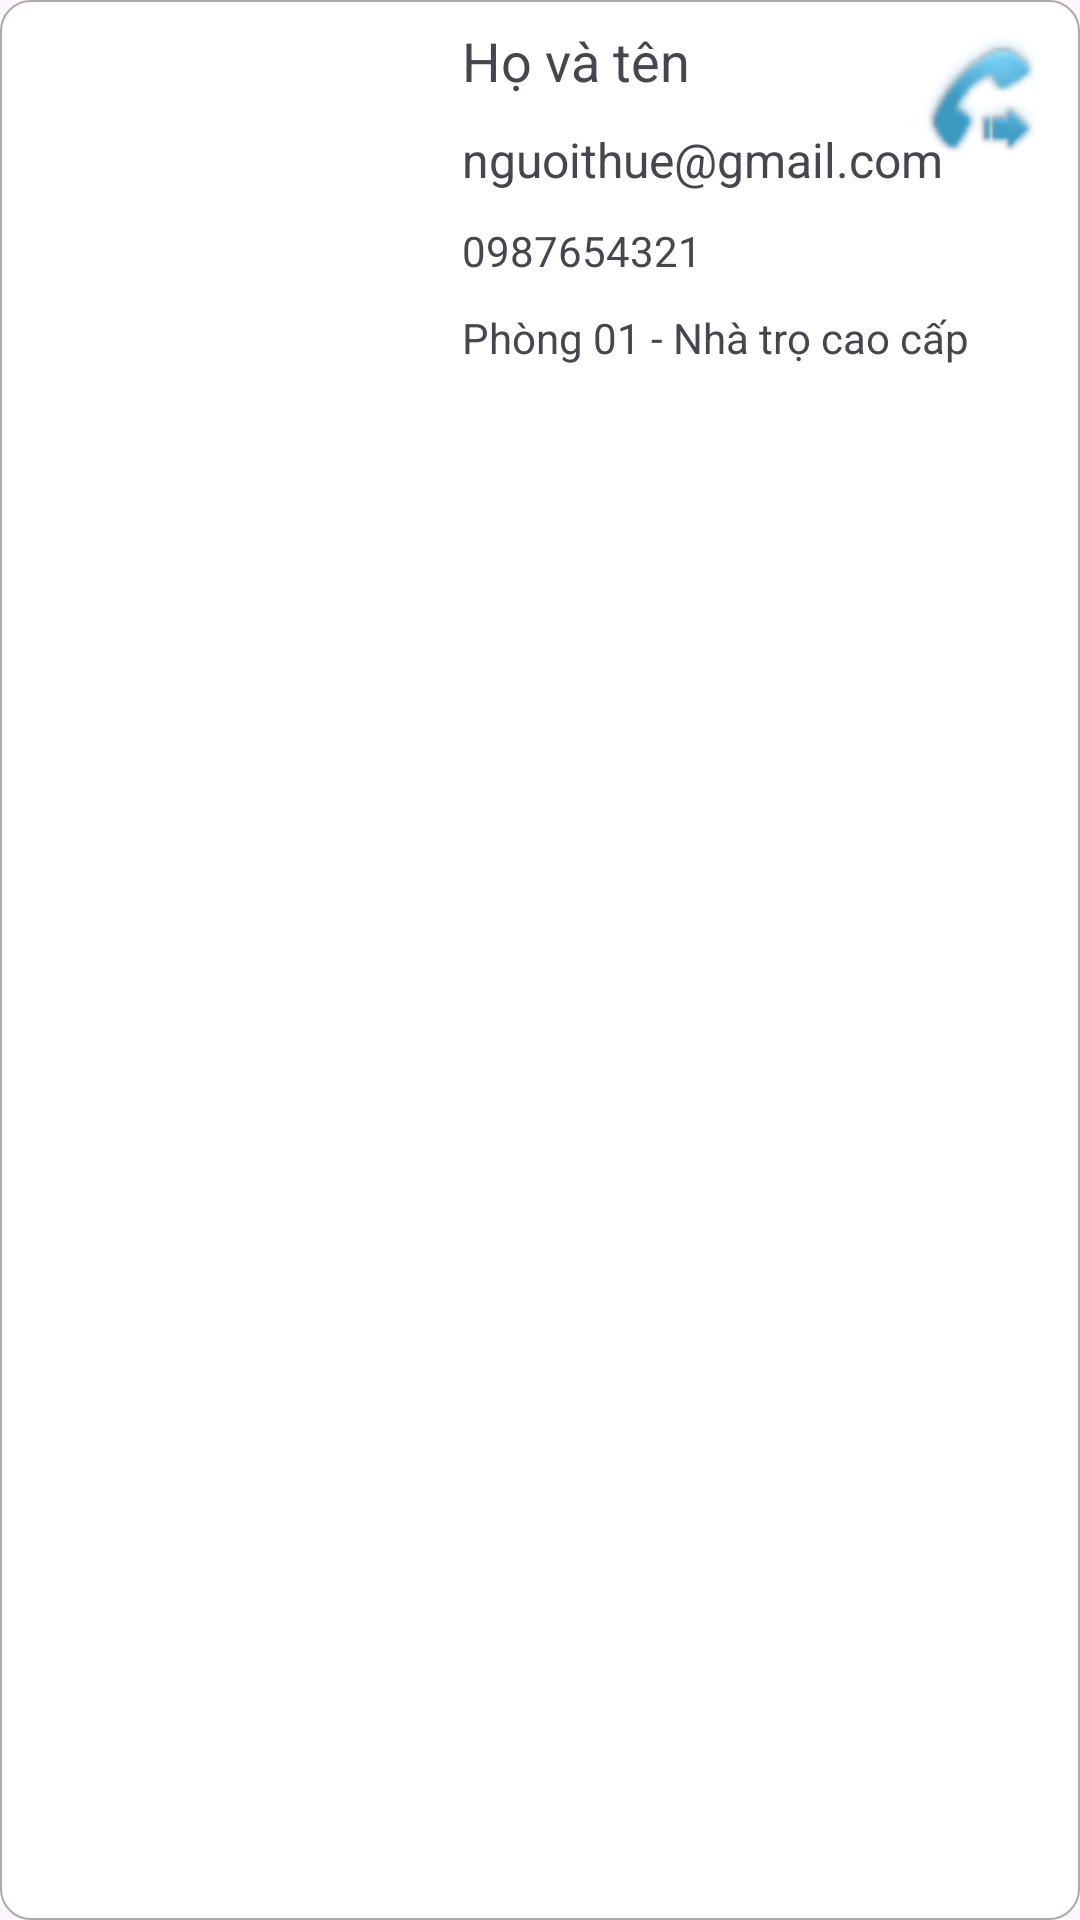

Icons on this 1080px×1920px Android screen, each with the point to tap as [x,y]:
phone call forward: [969,109]
